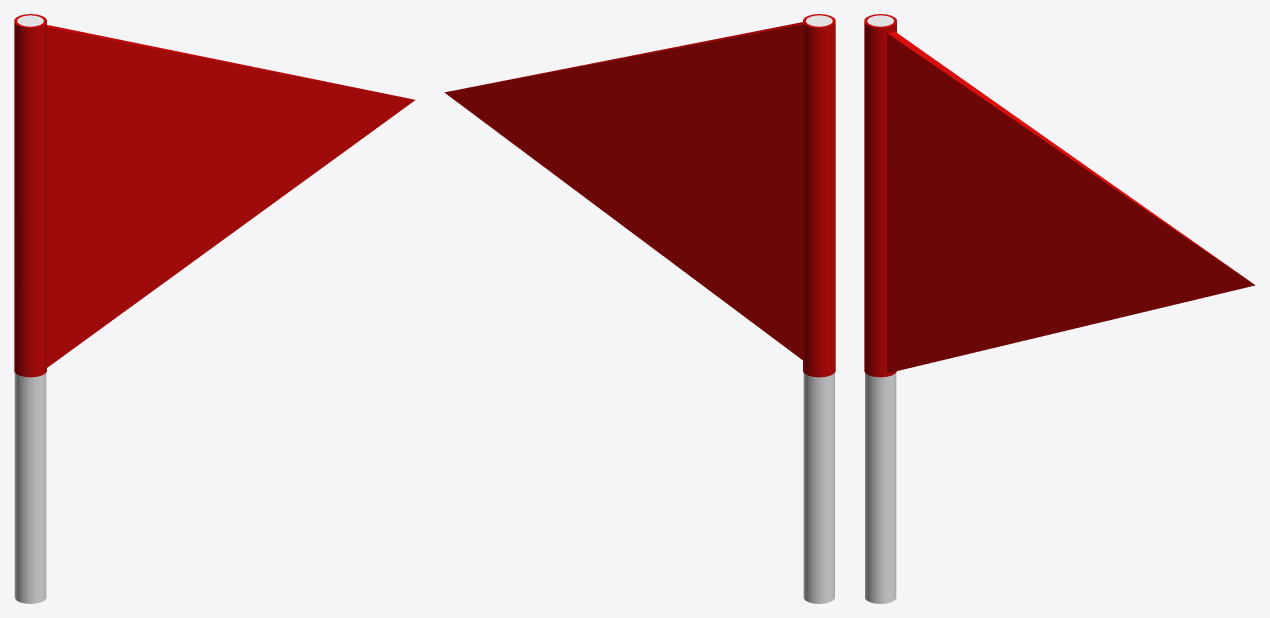
File: triangle-flag-adadd5.glb
3 views of the same model, side by side, from view 1: azimuth 30°, elevation 25°; view 2: azimuth 150°, elevation 25°; view 3: azimuth 330°, elevation 25° (orthographic).
Bounding box in the file's own units: 0.1424 × 0.1988 × 0.0102.
